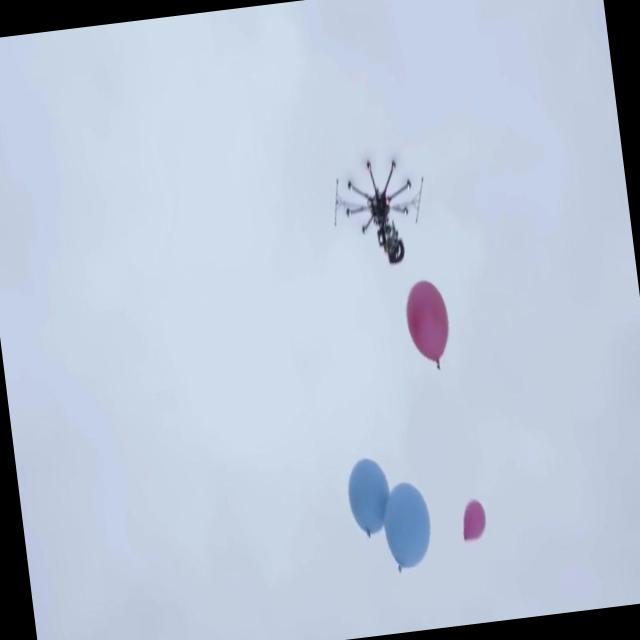drone: (324, 147, 432, 273)
